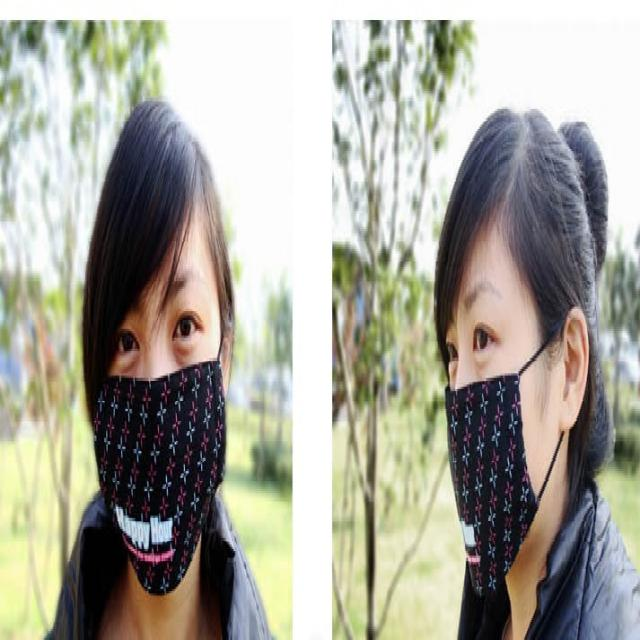mask: (104, 218, 223, 586), (443, 222, 543, 564)
